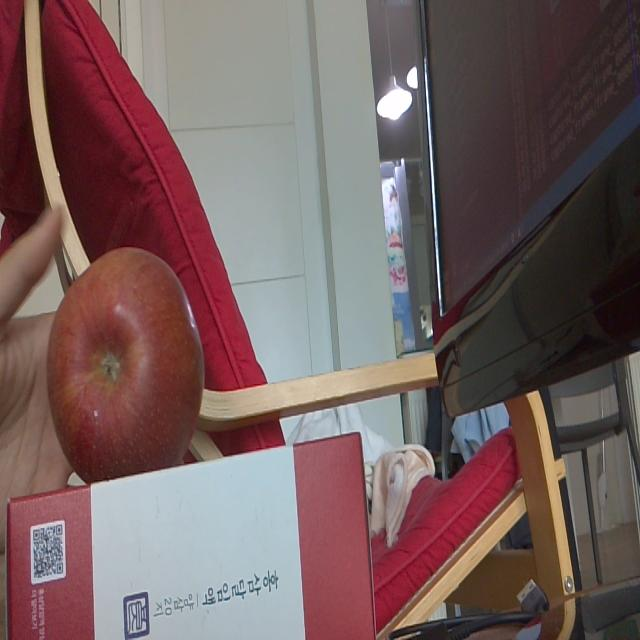apple: (50, 251, 200, 466)
